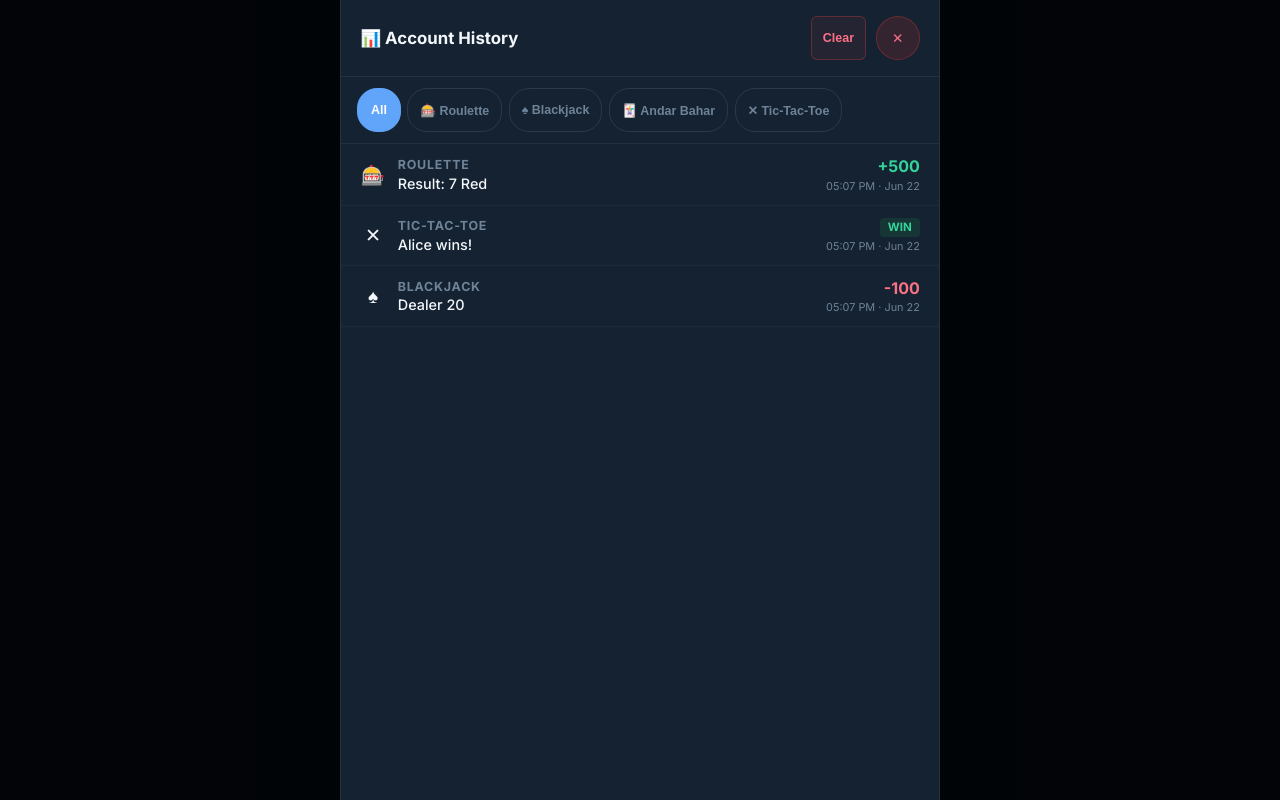
Test: AccountHistory › filtering › filters by game type when tab clicked
This screenshot has width=1280, height=800.
Note: Click Tic-Tac-Toe filter
Click the button "✕ Tic-Tac-Toe". click: (788, 110)
box: [734,88,842,132]
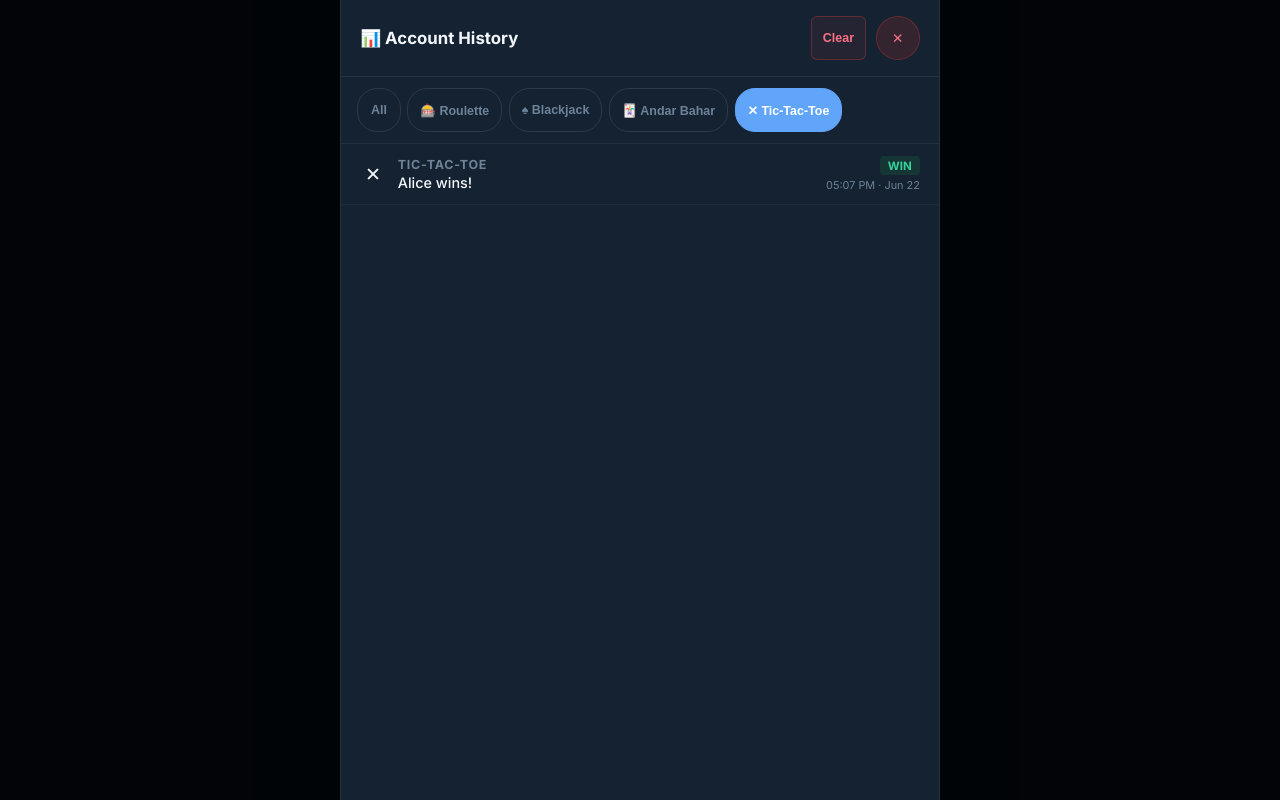
Expected: the number of elements with class "ah-row" is 1, [341,144,939,205]
